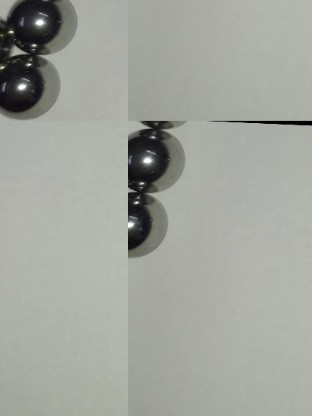ironball: (0, 53, 67, 123), (125, 125, 189, 194), (10, 0, 80, 52), (129, 190, 170, 269)
